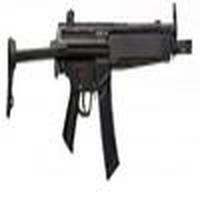gun: (4, 5, 198, 177)
